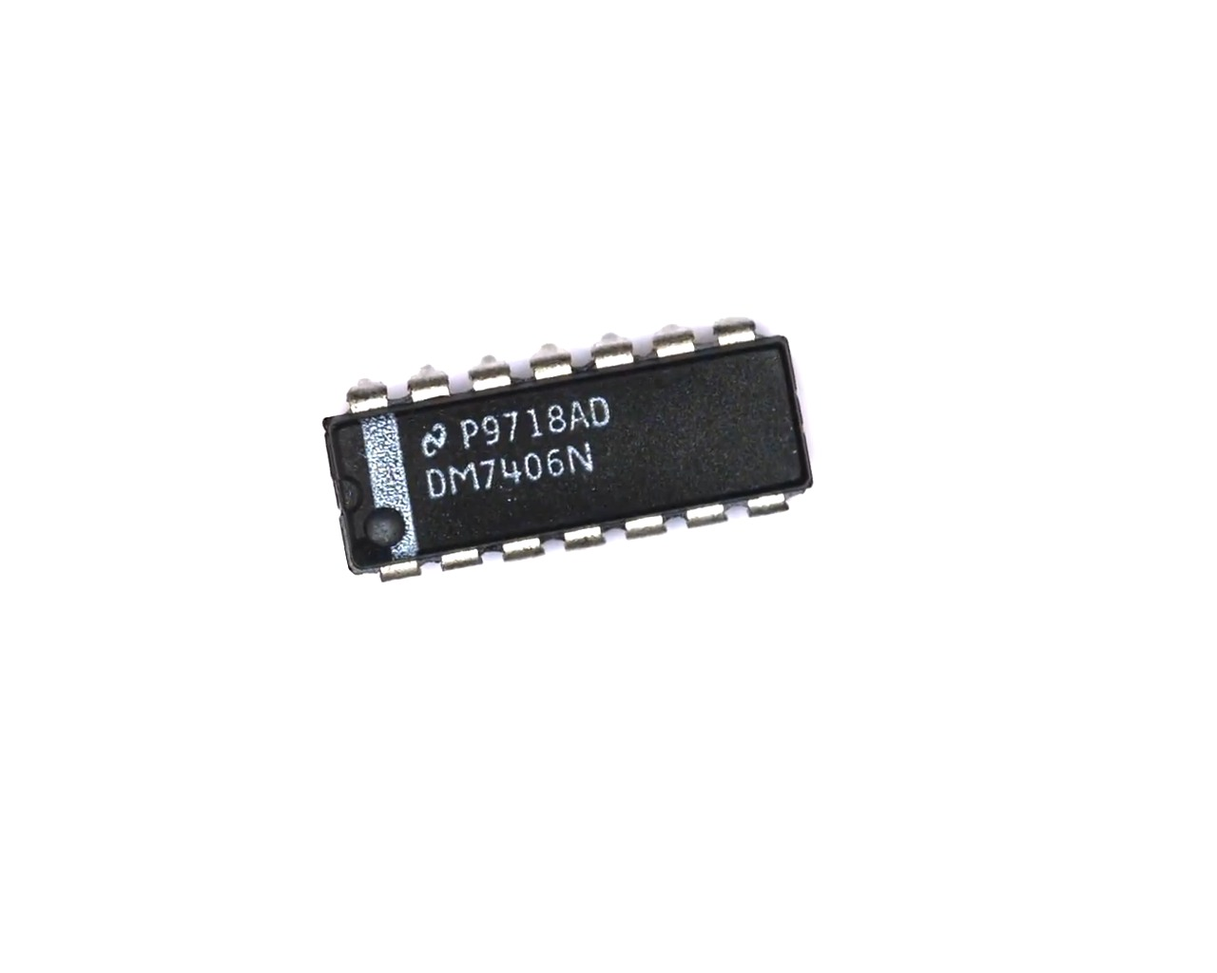IC: (293, 294, 833, 607)
notch: (326, 467, 368, 517)
